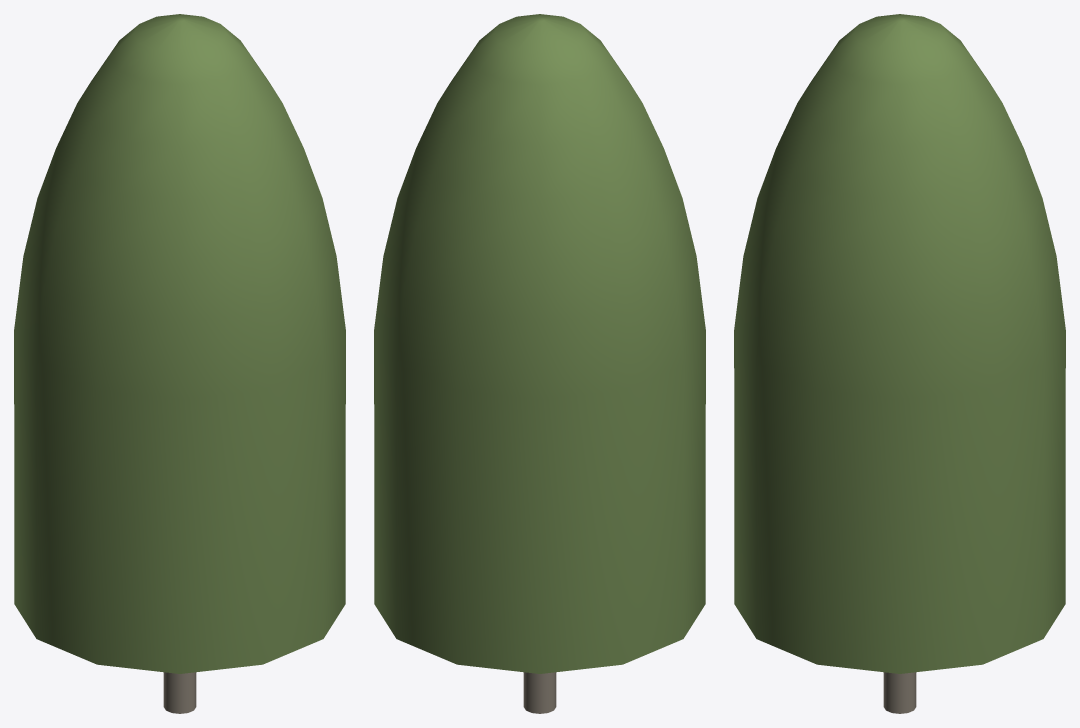
The model's file is Australian_Pine_Analytical_0.obj.
3 views of the same model, side by side, from view 1: azimuth 30°, elevation 25°; view 2: azimuth 150°, elevation 25°; view 3: azimuth 270°, elevation 25° (orthographic).
Visible parts, largest first — view 1: AnalyticalCrown, AnalyticalTrunk; view 2: AnalyticalCrown, AnalyticalTrunk; view 3: AnalyticalCrown, AnalyticalTrunk.
Boxes of the visible parts, x1,y1,x2,y2 form: AnalyticalCrown: (14,14,345,673); AnalyticalTrunk: (163,672,196,713); AnalyticalCrown: (374,14,705,673); AnalyticalTrunk: (523,672,556,713); AnalyticalCrown: (734,14,1065,673); AnalyticalTrunk: (883,672,916,713).
Bounding box in the file's own units: 6.56 × 15 × 6.56.
